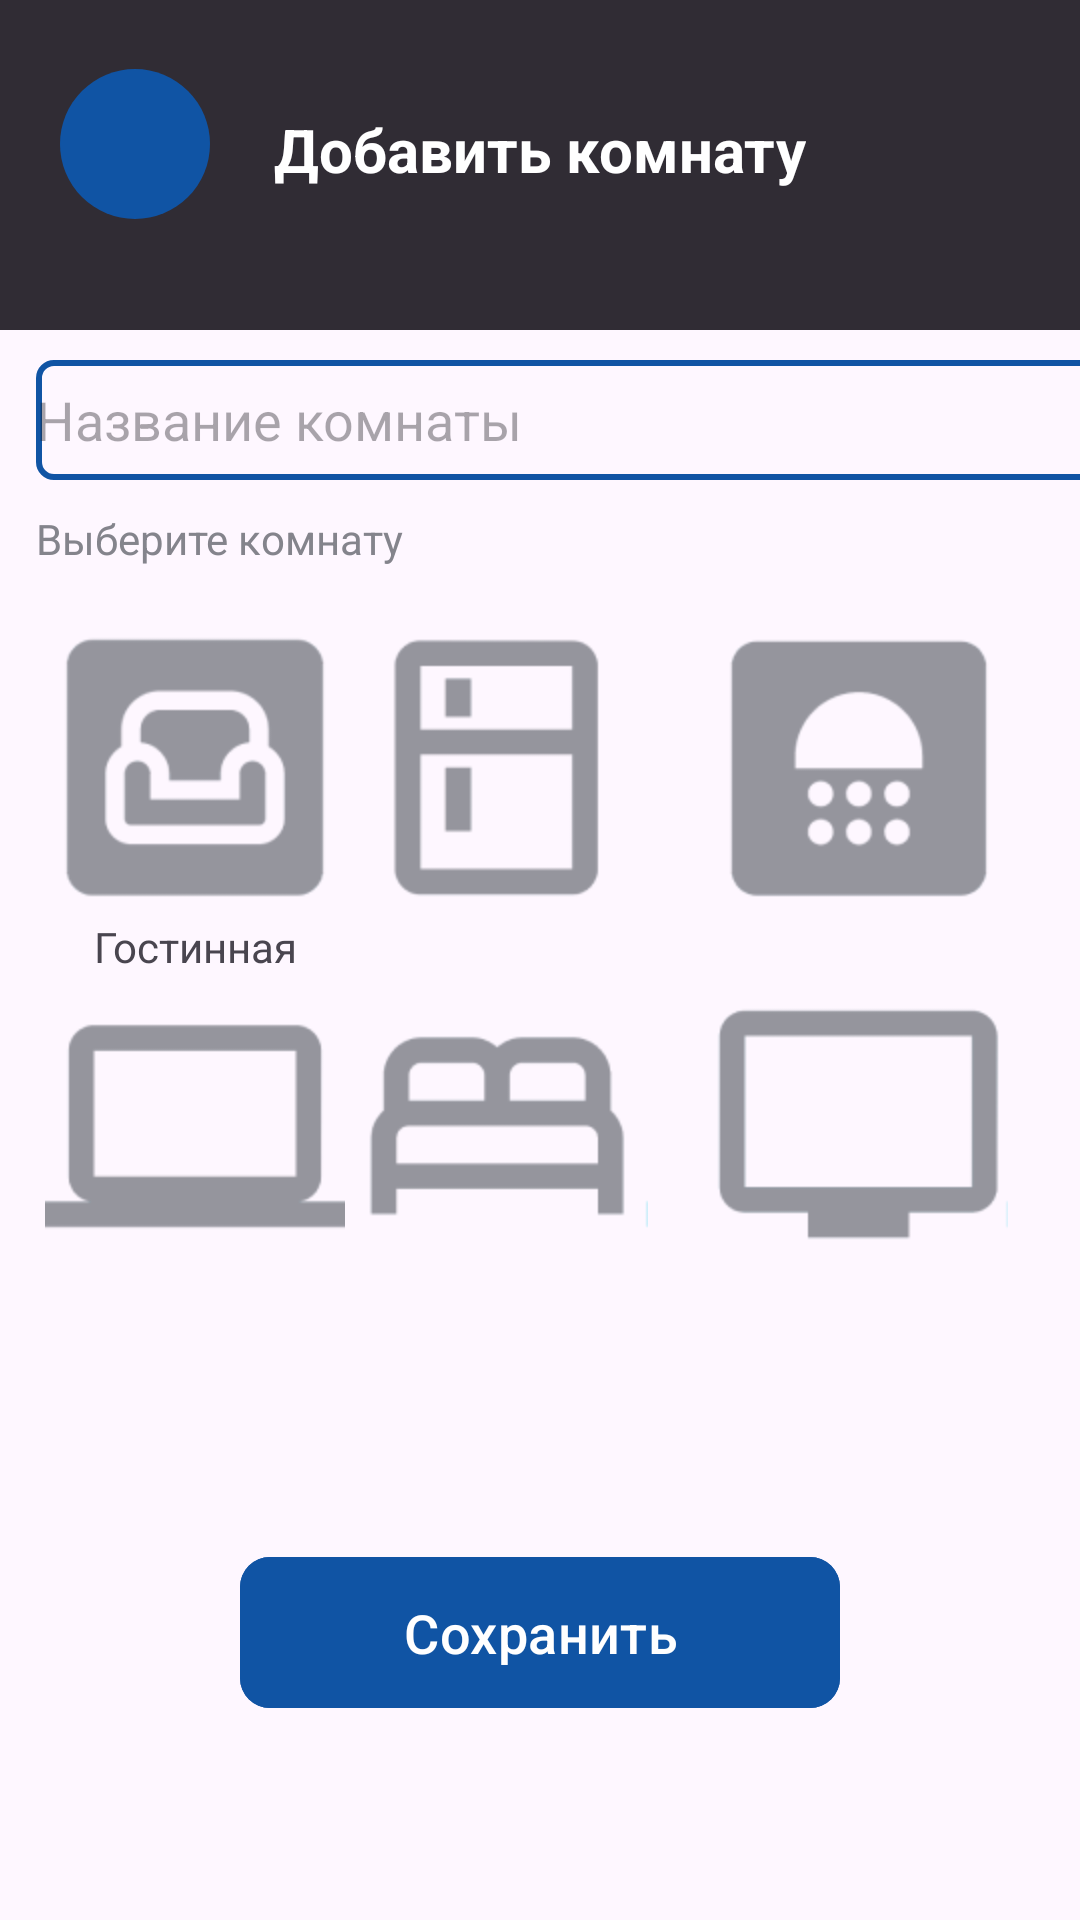

Icons on this 1080px x 1920px Android screen, each with the point to tap as (x,y):
bathroom: (859,768)
bed: (509,1132)
kitchen: (496,767)
office: (195,1126)
